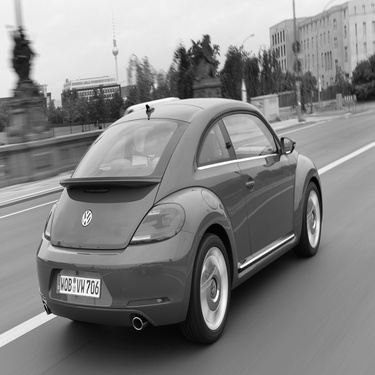car: (26, 96, 329, 338)
